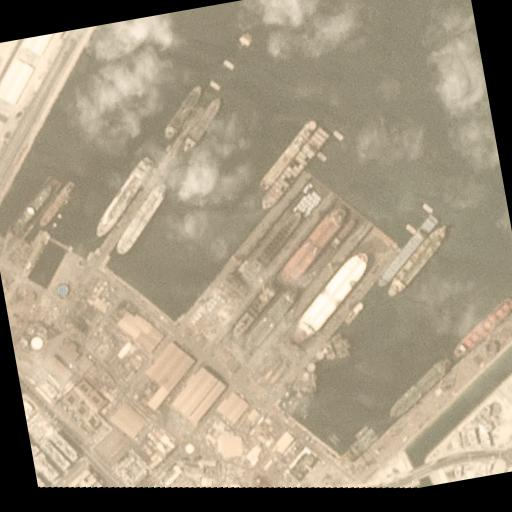ship: (278, 250, 380, 342), (248, 125, 338, 209), (266, 204, 358, 284), (82, 153, 168, 237), (376, 223, 456, 298), (248, 116, 325, 188), (106, 178, 178, 254), (380, 357, 456, 417), (237, 286, 305, 349), (444, 295, 512, 356), (244, 210, 310, 272), (222, 280, 284, 336), (154, 80, 209, 140), (174, 95, 228, 152), (32, 178, 82, 226), (9, 182, 57, 228)
